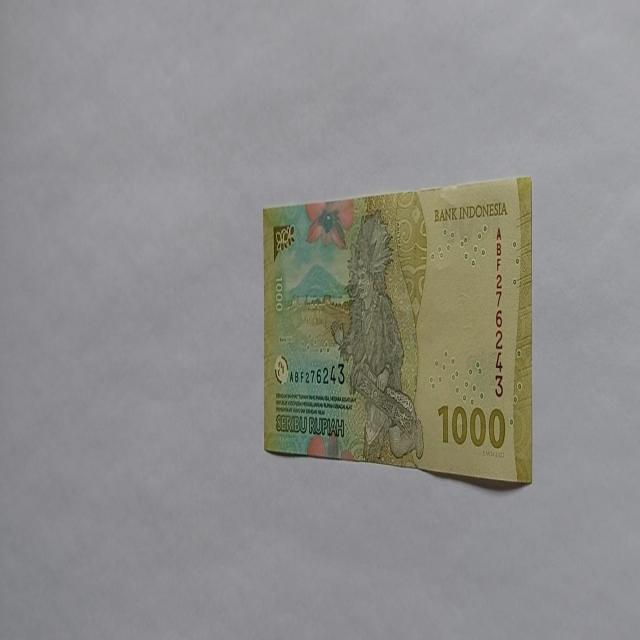seribu rupiah kertas: (262, 174, 533, 486)
